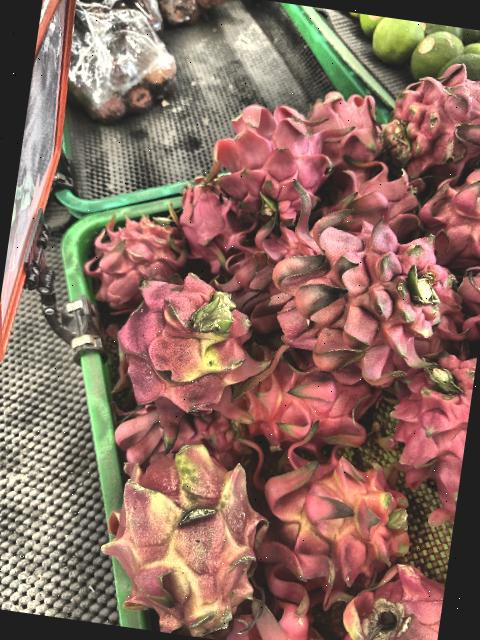buah-naga-belum-matang: (99, 432, 282, 640), (228, 428, 420, 598), (99, 266, 271, 424)
buah-naga-matang: (262, 200, 446, 382), (236, 341, 381, 458), (200, 98, 333, 222), (382, 342, 478, 502), (379, 55, 480, 180), (77, 206, 196, 308), (302, 86, 402, 180), (322, 150, 426, 238), (336, 562, 446, 640), (209, 234, 292, 330), (171, 172, 247, 260), (420, 160, 480, 258), (446, 256, 480, 339)
